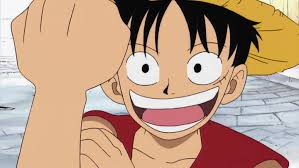luffy: (93, 1, 299, 147)
